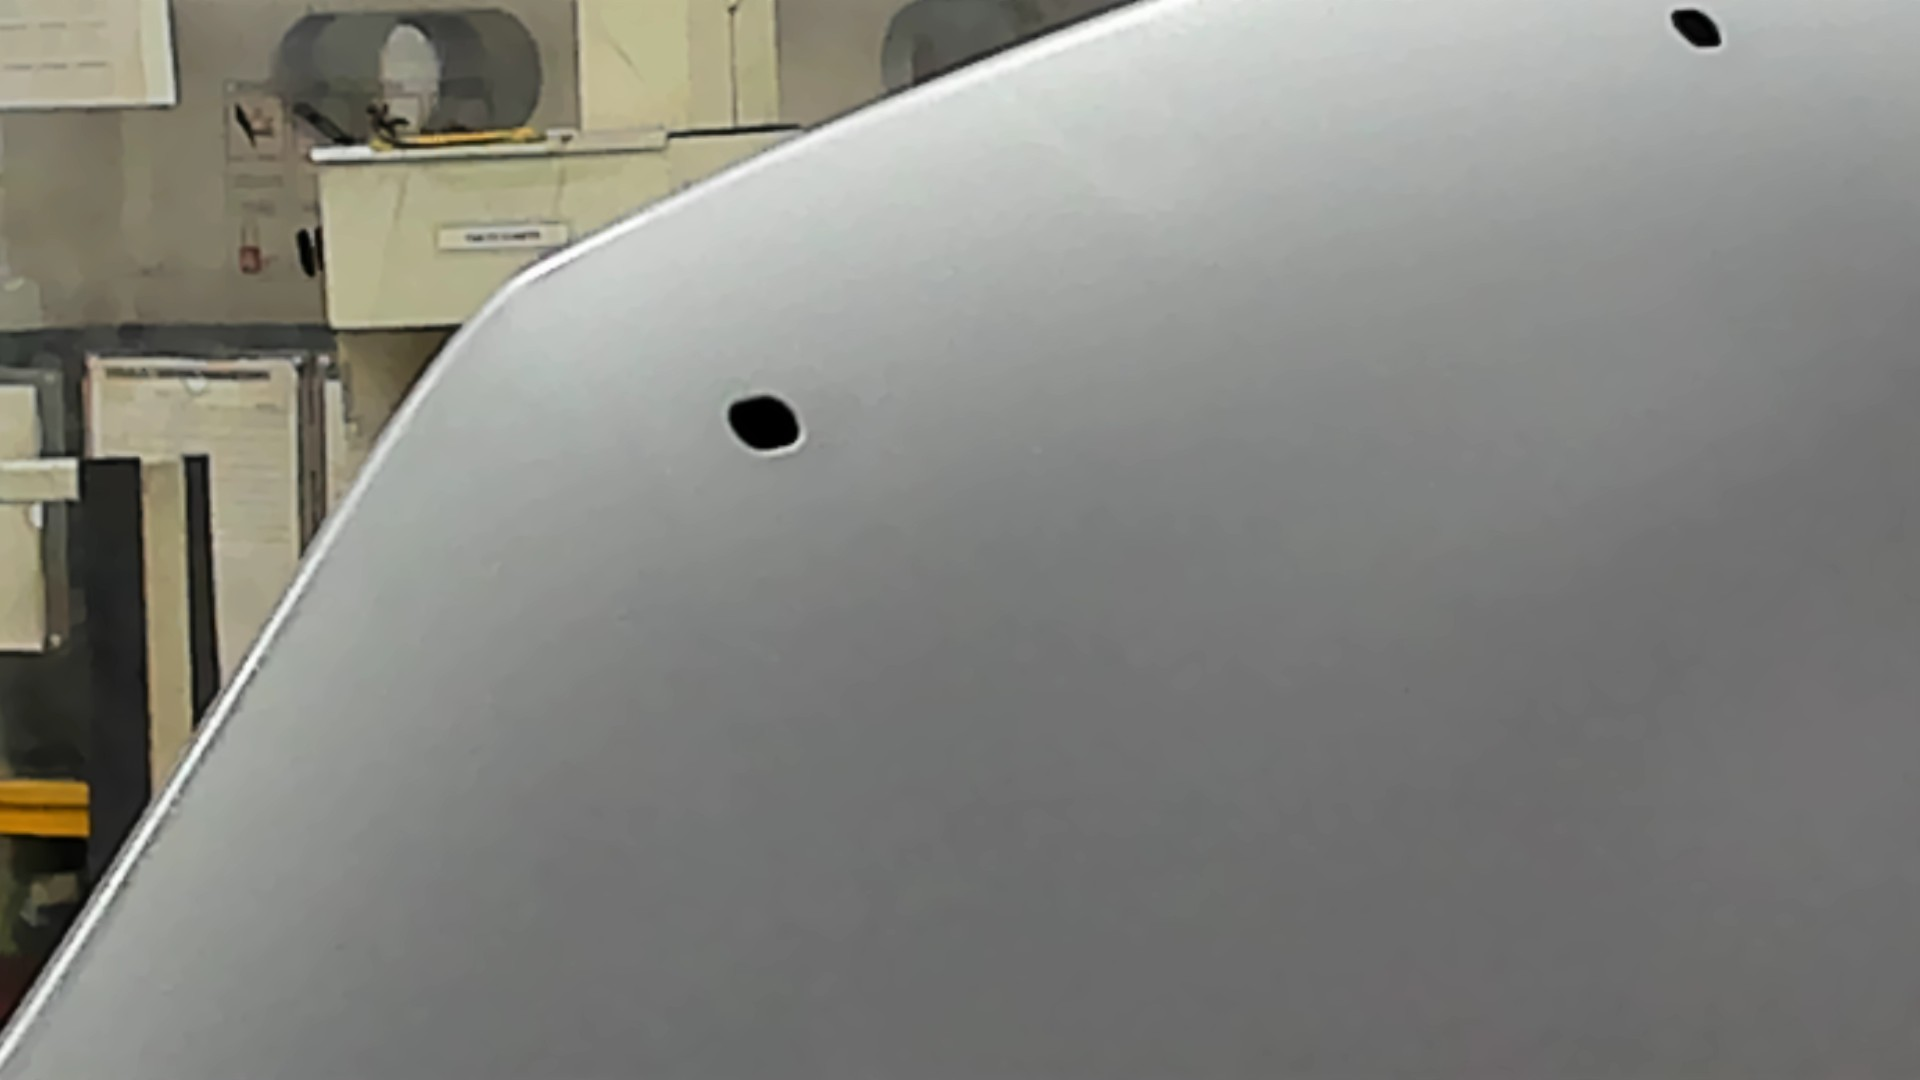Agujero: (723, 392, 806, 455), (1667, 7, 1724, 51)
